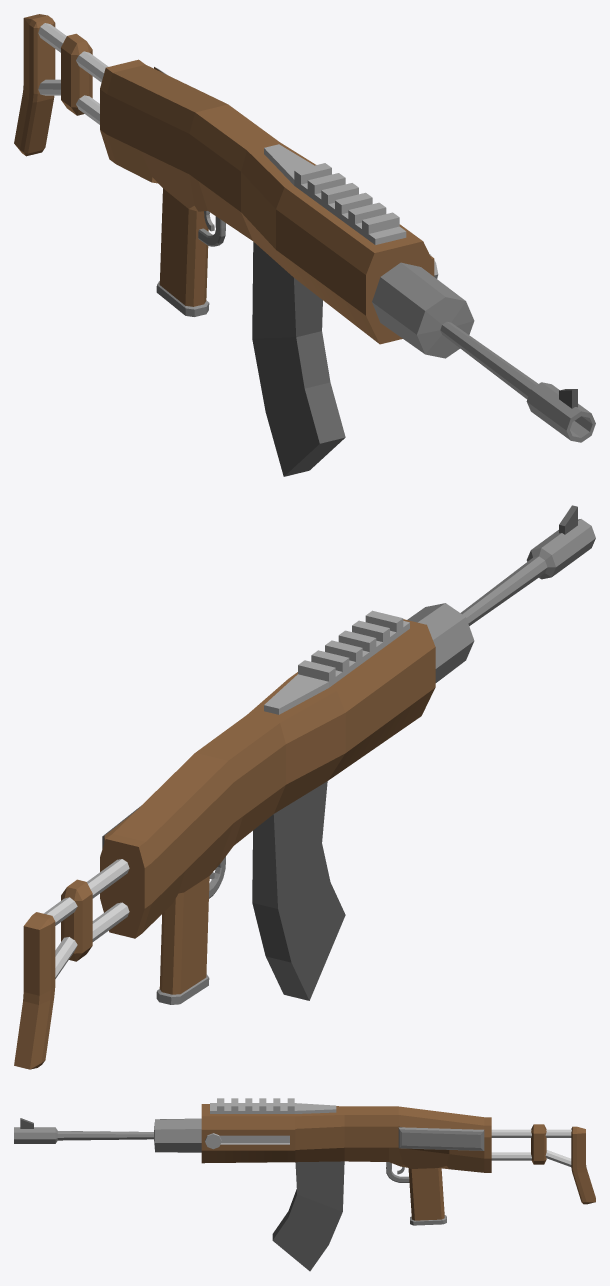
File: rifle.obj
3 views of the same model, one above another, from view 1: azimuth 30°, elevation 25°; view 2: azimuth 150°, elevation 25°; view 3: azimuth 270°, elevation 25° (orthographic). The views are drawn at different scales.
Bounding box in the file's own units: 0.7883 × 3.18 × 10.12.
